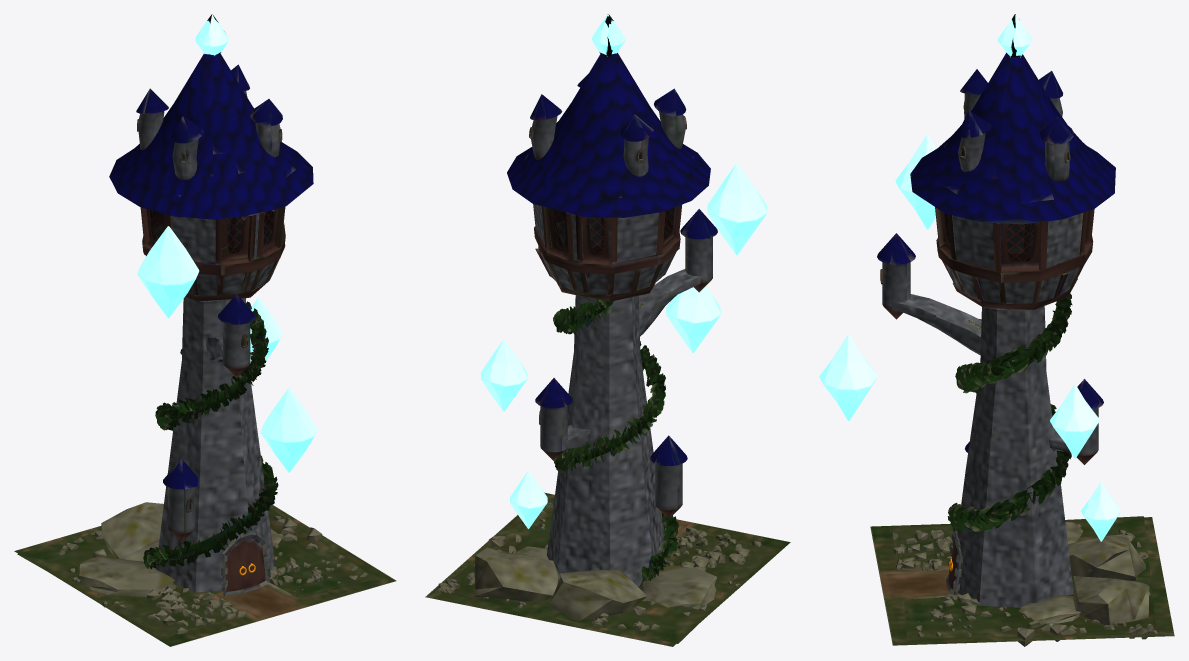
Rendered from mage.glb.
3 views of the same model, side by side, from view 1: azimuth 30°, elevation 25°; view 2: azimuth 150°, elevation 25°; view 3: azimuth 270°, elevation 25° (orthographic). The views are drawn at different scales.
Parts seen in each view (by area): view 1: Mage_Tower, Gem4, Gem2, Gem3; view 2: Mage_Tower, Gem4, Gem2, Gem3, Gem1; view 3: Mage_Tower, Gem2, Gem3, Gem4, Gem1.
Part boxes in pixels (<box>): Mage_Tower: <box>14,14,396,646</box>; Gem4: <box>137,226,199,318</box>; Gem2: <box>260,388,317,472</box>; Gem3: <box>250,298,282,360</box>; Mage_Tower: <box>425,14,790,646</box>; Gem4: <box>707,163,767,254</box>; Gem2: <box>666,286,720,353</box>; Gem3: <box>480,339,527,411</box>; Gem1: <box>510,471,547,528</box>; Mage_Tower: <box>870,14,1174,646</box>; Gem2: <box>819,334,877,421</box>; Gem3: <box>1050,384,1099,458</box>; Gem4: <box>895,135,936,229</box>; Gem1: <box>1081,482,1121,541</box>.
Size of the model in its own units: 0.00665 by 0.0139 by 0.00773.
3 materials, 3 textured.
